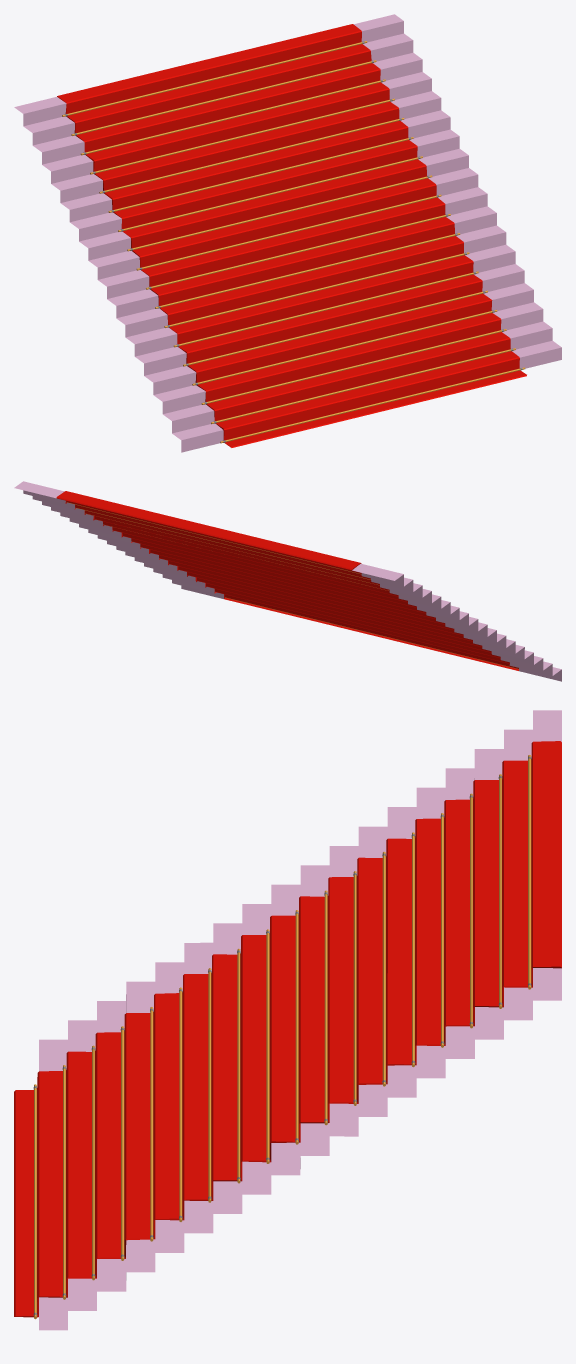
The model's file is SchodyZDywanem.fbx.
3 views of the same model, one above another, from view 1: azimuth 30°, elevation 25°; view 2: azimuth 150°, elevation 25°; view 3: azimuth 270°, elevation 25° (orthographic). The views are drawn at different scales.
Parts seen in each view (by area): view 1: Schody z dywanem; view 2: Schody z dywanem; view 3: Schody z dywanem.
Boxes of the visible parts, x1,y1,x2,y2 form: Schody z dywanem: [14, 14, 561, 452]; Schody z dywanem: [14, 481, 561, 681]; Schody z dywanem: [14, 710, 561, 1330].
Size of what is drawn, in the model's own units: 995 by 560 by 793.
